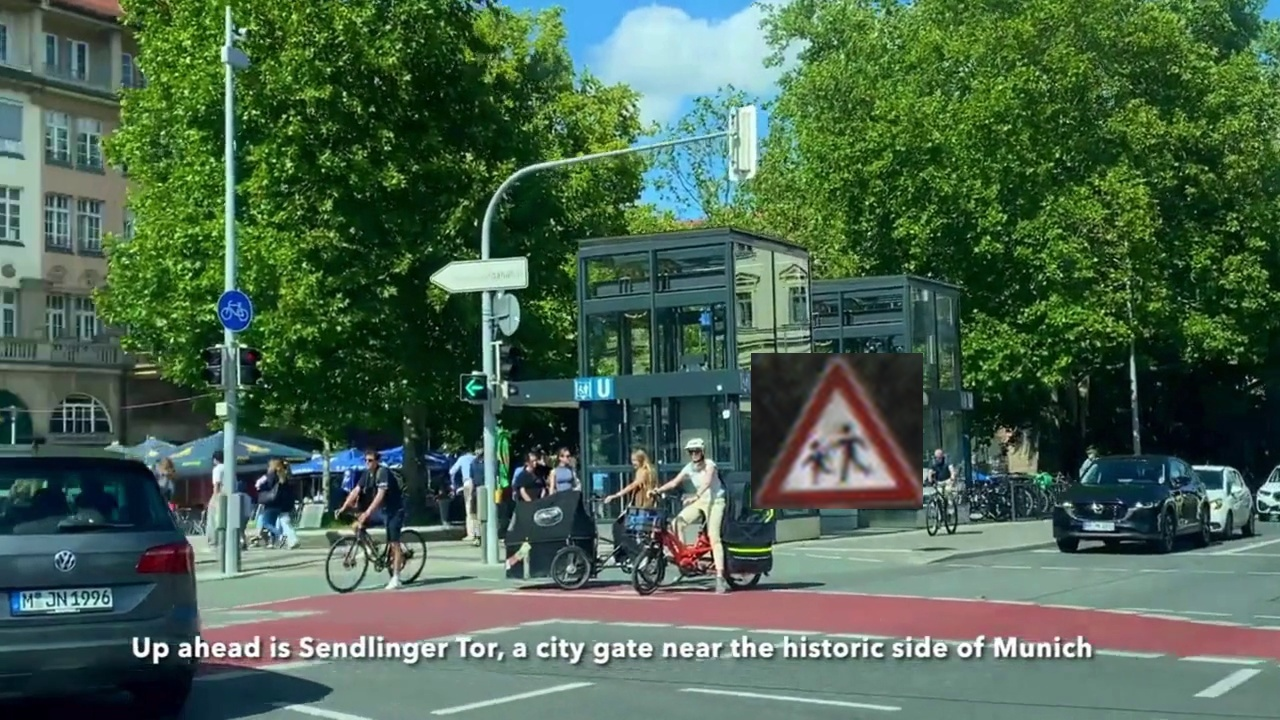Children: (751, 353, 923, 509)
